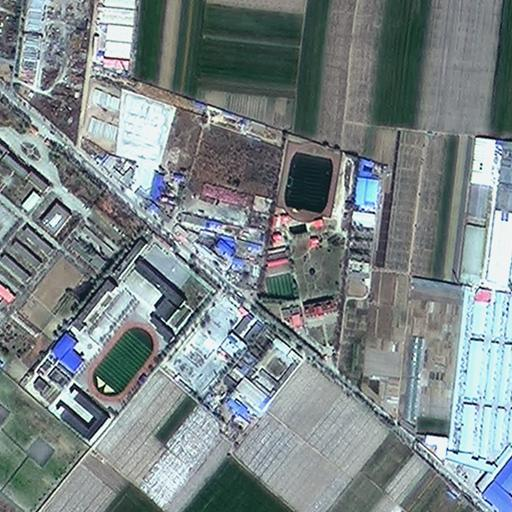school: (16, 239, 221, 443), (255, 136, 346, 322)
